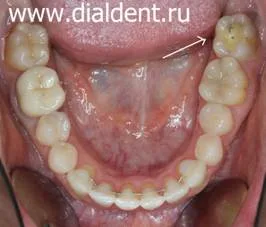LL1BC_healthy: (194, 133, 224, 164)
LL1M_healthy: (201, 59, 247, 103)
LL2BC_healthy: (201, 104, 233, 131)
LL2M_decay: (216, 15, 254, 57)
LLCI_decay: (139, 183, 163, 209)
LLC_healthy: (180, 159, 205, 186)
LLLI_decay: (162, 175, 187, 203)
LR1BC_healthy: (52, 142, 74, 169)
LR1M_healthy: (20, 71, 64, 112)
LR2BC_healthy: (37, 114, 68, 141)
LR2M_healthy: (9, 27, 49, 64)
LRCI_healthy: (118, 183, 139, 209)
LRC_healthy: (69, 163, 91, 195)
LRLI_healthy: (91, 179, 114, 205)
